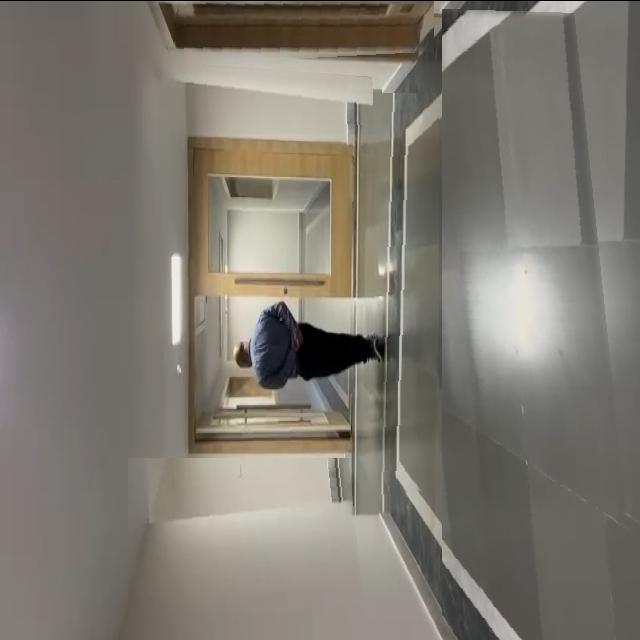door: (173, 0, 434, 64)
floor: (442, 6, 640, 640), (366, 92, 440, 496)
wall: (128, 457, 366, 640), (174, 61, 374, 132)
